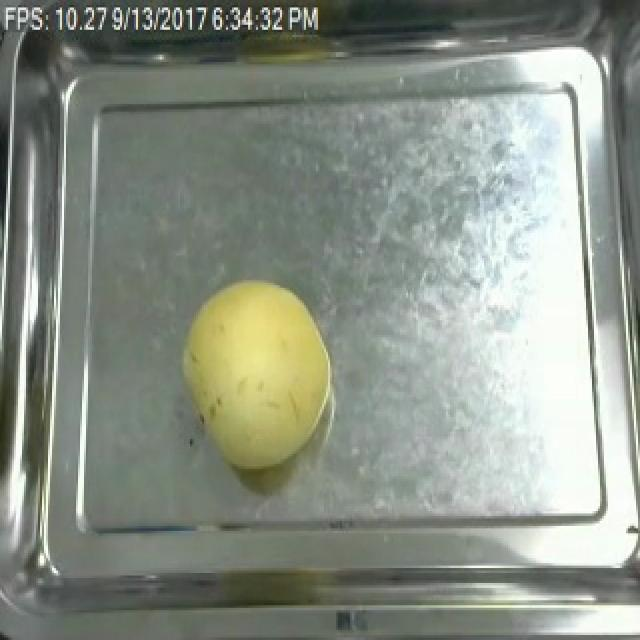Fruit: (172, 273, 340, 474)
